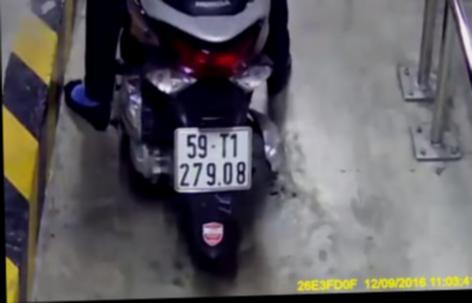License_Plate: (169, 119, 258, 196)
